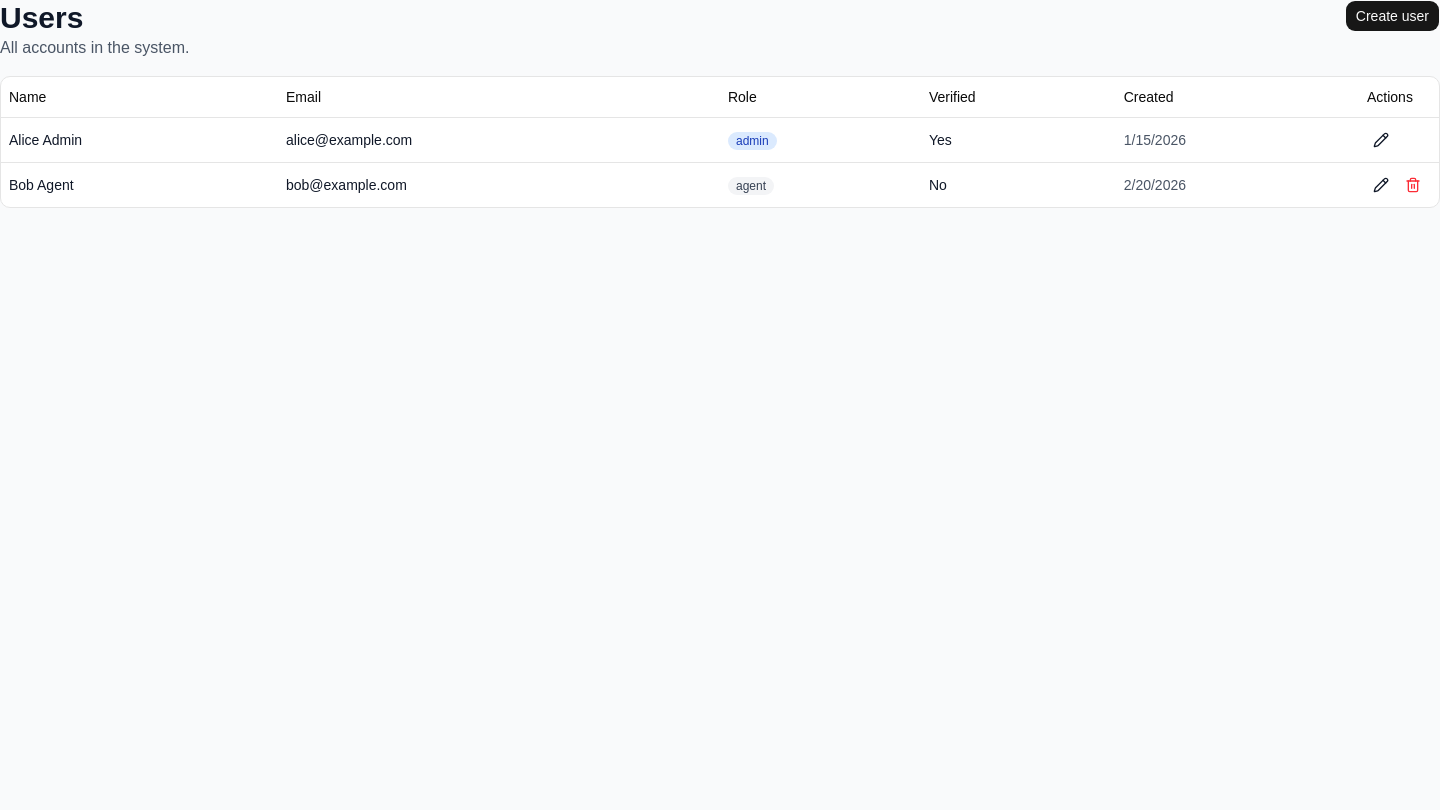
Test: Edit user › opens the dialog prefilled with the user's data
Click the button named "edit alice admin": (1381, 140) [1367, 126, 1395, 154]
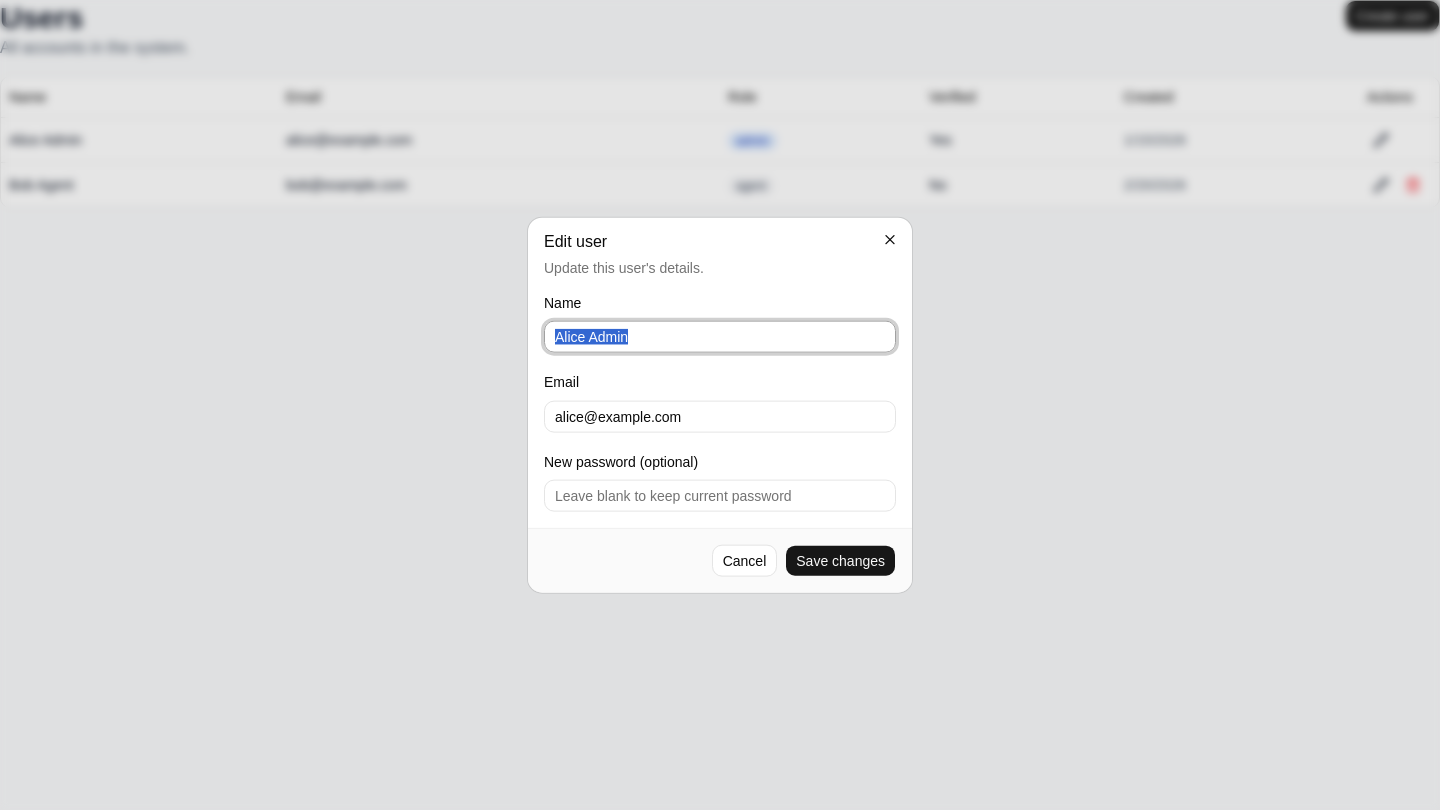
Now the heading "Edit user" is shown, box [544, 233, 607, 250]
Now the field labelled "Name" holds "Alice Admin", box [544, 321, 896, 353]
Now the field labelled "Email" holds "alice@example.com", box [544, 400, 896, 432]
